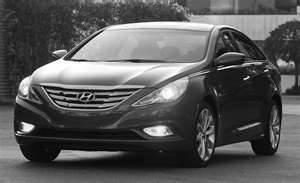car: (12, 22, 286, 171)
